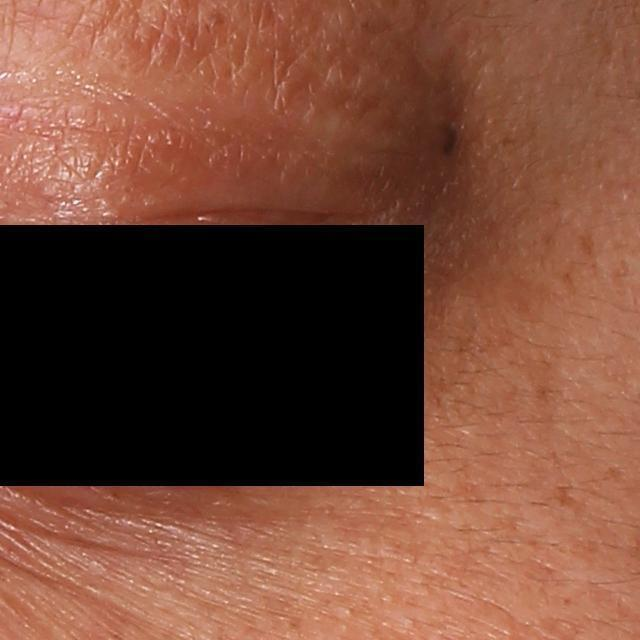melasma: (550, 480, 579, 506)
nevus: (441, 117, 458, 162)
